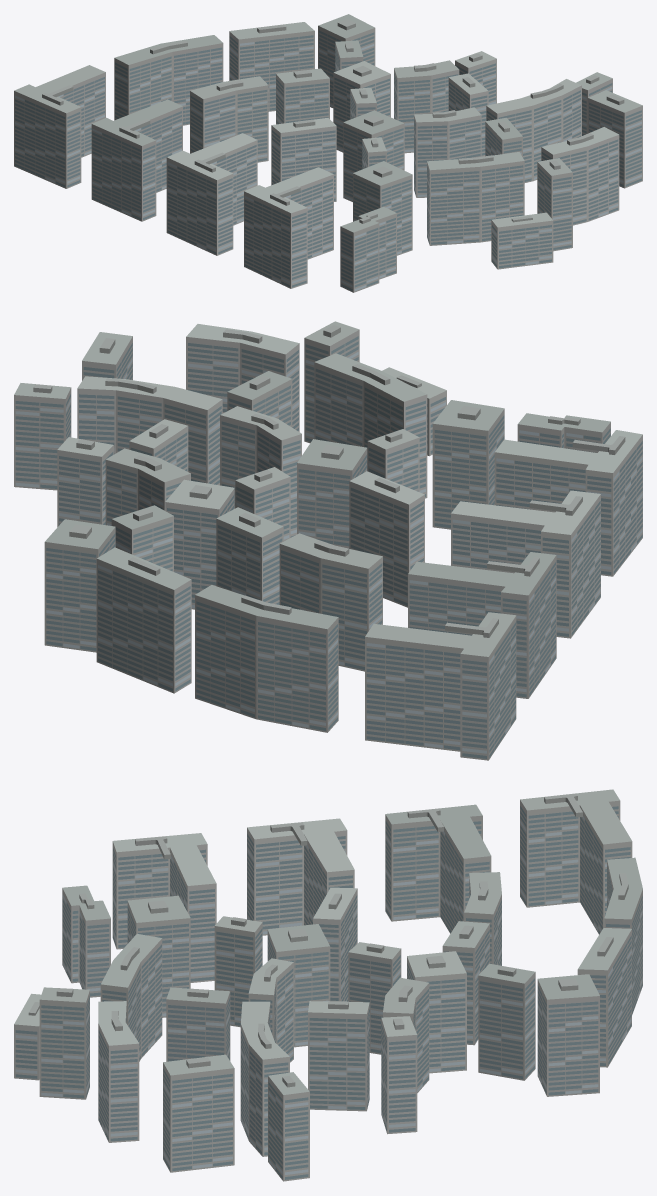
Rendered from apt-a13613008.glb.
3 renders of one model, top to bottom at view 1: azimuth 30°, elevation 25°; view 2: azimuth 150°, elevation 25°; view 3: azimuth 270°, elevation 25°, orthographic. The views are drawn at different scales.
Parts seen in each view (by area): view 1: apt-a13613008; view 2: apt-a13613008; view 3: apt-a13613008.
Part boxes in pixels (x1,y1,x2,y2): apt-a13613008: [14, 14, 642, 292]; apt-a13613008: [14, 321, 642, 760]; apt-a13613008: [14, 789, 642, 1181].
Bounding box in the file's own units: 335 × 54 × 302.
